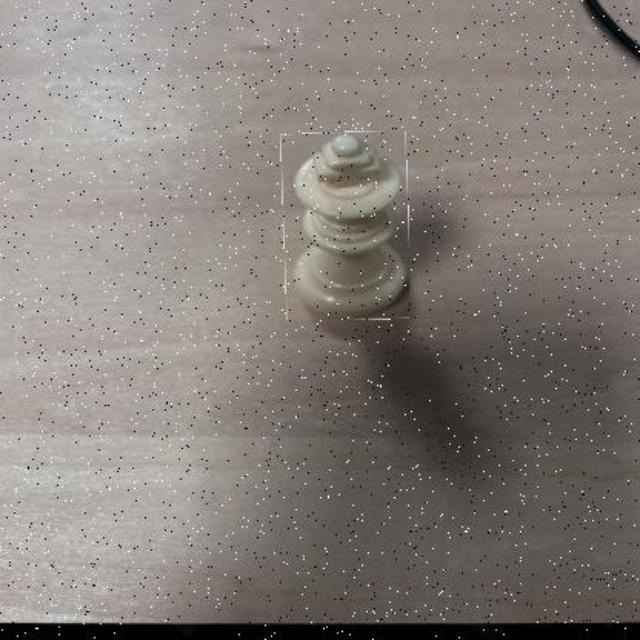white-king: (281, 131, 408, 320)
